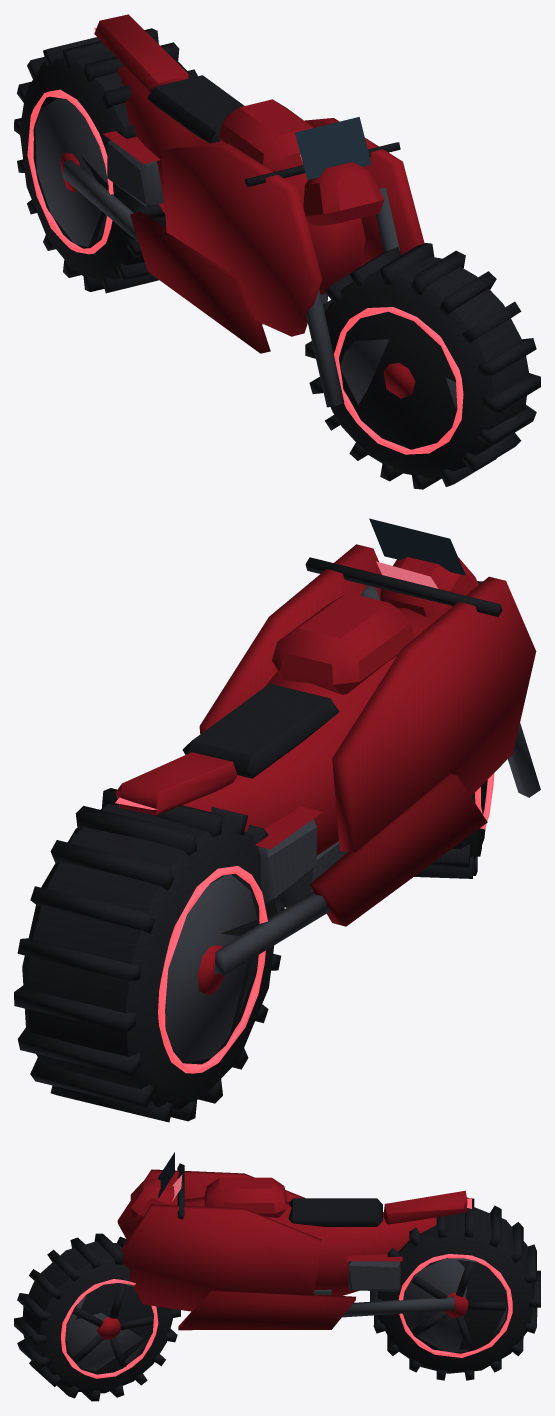
Rendered from crb1_batcycle_lod1.glb.
The picture shows the model from 3 angles, top to bottom: view 1: azimuth 30°, elevation 25°; view 2: azimuth 150°, elevation 25°; view 3: azimuth 270°, elevation 25°; orthographic projection. The views are drawn at different scales.
Visible parts, largest first — view 1: crb1_batcycle_LOD1; view 2: crb1_batcycle_LOD1; view 3: crb1_batcycle_LOD1.
Boxes of the visible parts, x1,y1,x2,y2 form: crb1_batcycle_LOD1: [14, 14, 540, 489]; crb1_batcycle_LOD1: [14, 518, 540, 1122]; crb1_batcycle_LOD1: [14, 1152, 540, 1401].
Size of the model in its own units: 0.8549 by 1.38 by 3.06.
Materials: 9 (9 with a texture image).
